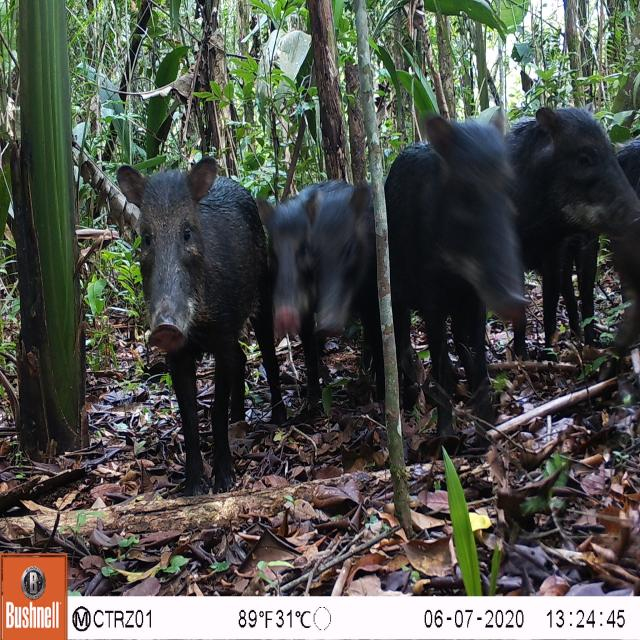Collared Peccary: (197, 87, 640, 441), (109, 153, 259, 504)
